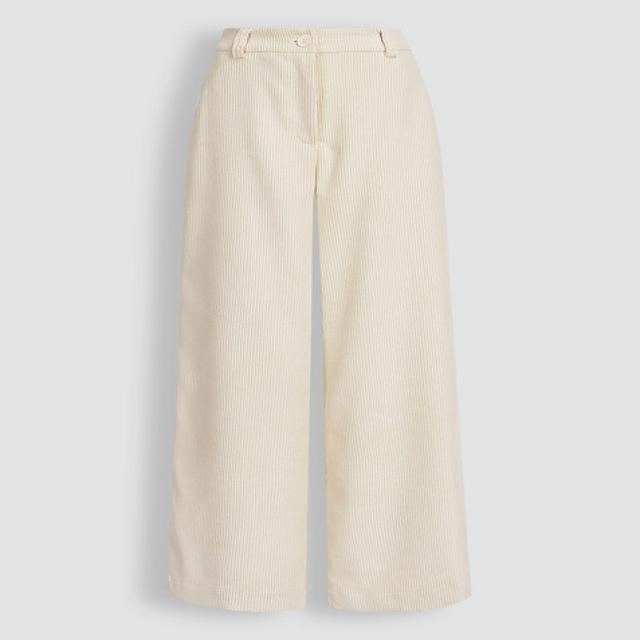long-pants: (165, 27, 474, 617)
